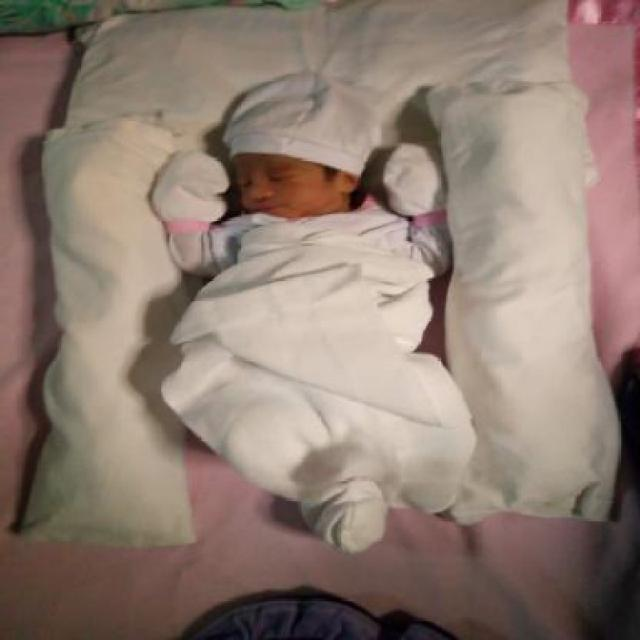baby: (144, 70, 473, 550)
